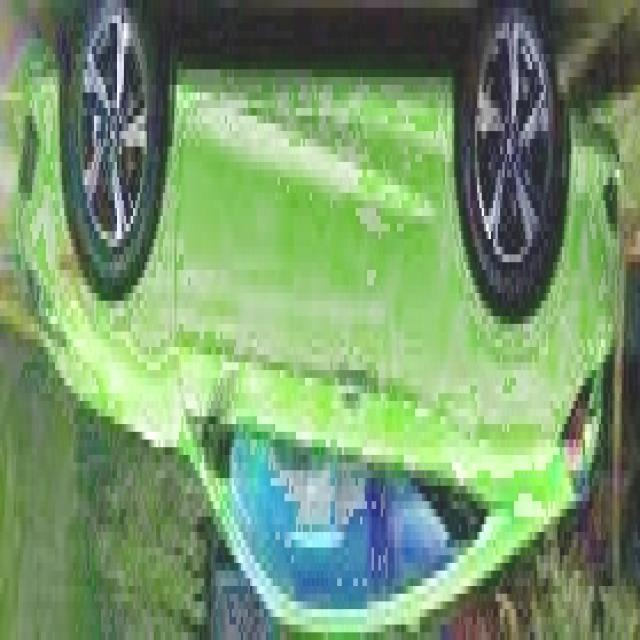green: (20, 1, 640, 625)
